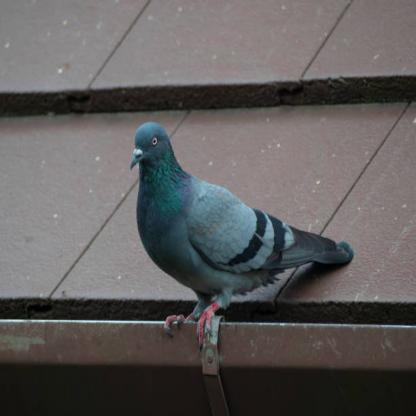Rock Pigeon: (126, 119, 342, 295)
